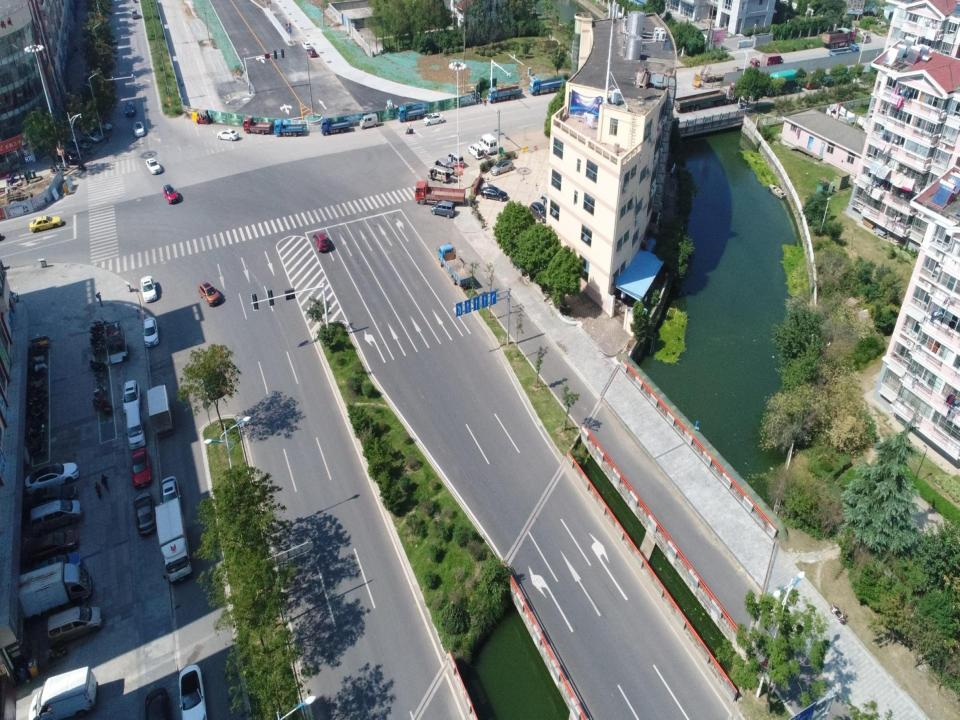car: (29, 663, 98, 718), (18, 460, 84, 491), (178, 663, 206, 718), (23, 530, 82, 555), (132, 490, 156, 540), (132, 446, 152, 488), (144, 690, 170, 719), (161, 475, 181, 511), (198, 280, 221, 308), (28, 215, 62, 233), (123, 381, 141, 411), (481, 185, 509, 203), (140, 275, 157, 304), (144, 316, 160, 346), (312, 227, 329, 253), (490, 159, 514, 176), (530, 200, 547, 224), (163, 183, 179, 205), (68, 137, 90, 152), (217, 129, 239, 143), (422, 113, 445, 126), (81, 130, 102, 144), (144, 158, 162, 174), (96, 116, 111, 134), (134, 121, 145, 137), (125, 100, 135, 117), (302, 40, 313, 51), (130, 8, 138, 20), (308, 49, 317, 58)
truck: (19, 560, 93, 616), (156, 496, 193, 581), (436, 237, 476, 291), (674, 82, 739, 110), (416, 181, 464, 208), (147, 385, 172, 435), (765, 68, 800, 95), (804, 71, 845, 89), (527, 77, 566, 95), (488, 85, 523, 103), (320, 117, 350, 136), (274, 119, 305, 137), (242, 118, 274, 134), (398, 105, 426, 120)
van: (23, 496, 82, 532), (43, 606, 104, 639), (101, 320, 127, 363), (125, 406, 147, 450), (428, 162, 452, 183), (480, 133, 498, 156), (432, 201, 454, 218), (360, 113, 380, 130), (448, 151, 464, 168), (436, 158, 454, 173), (469, 144, 483, 159), (539, 192, 548, 206)
